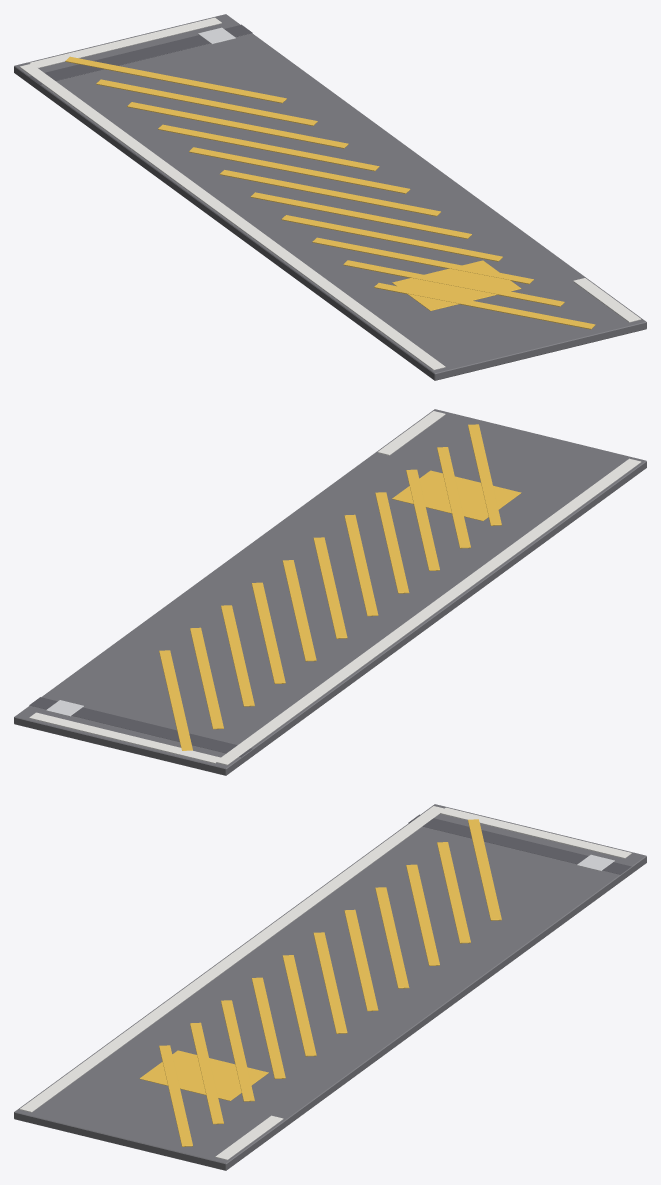
The model's file is motorway-services-and-truck-park-delivery-bay-tile-7ad6d09b__35954.glb.
3 views of the same model, one above another, from view 1: azimuth 30°, elevation 25°; view 2: azimuth 150°, elevation 25°; view 3: azimuth 330°, elevation 25° (orthographic).
Parts seen in each view (by area): view 1: delivery-bay-tile; view 2: delivery-bay-tile; view 3: delivery-bay-tile.
Boxes of the visible parts, bbox=[...] form: delivery-bay-tile: bbox=[14, 14, 646, 380]; delivery-bay-tile: bbox=[14, 409, 646, 775]; delivery-bay-tile: bbox=[14, 804, 646, 1170].
Bounding box in the file's own units: 3.5 × 0.1372 × 12.
